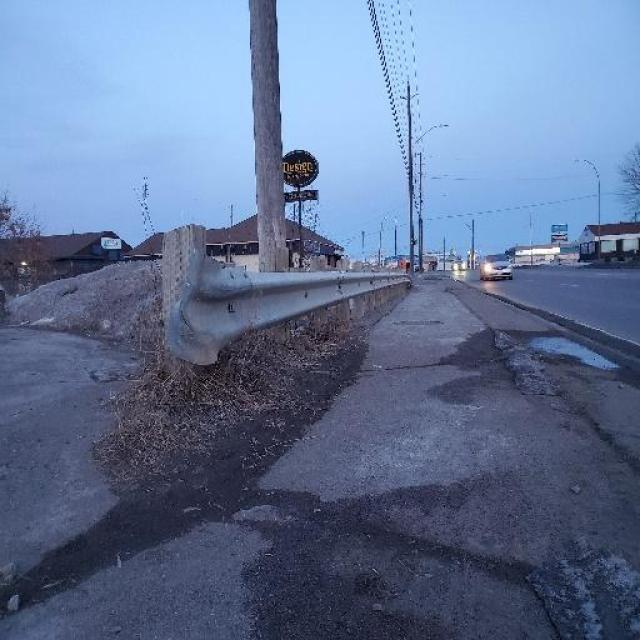Guard rail: (155, 223, 416, 417)
